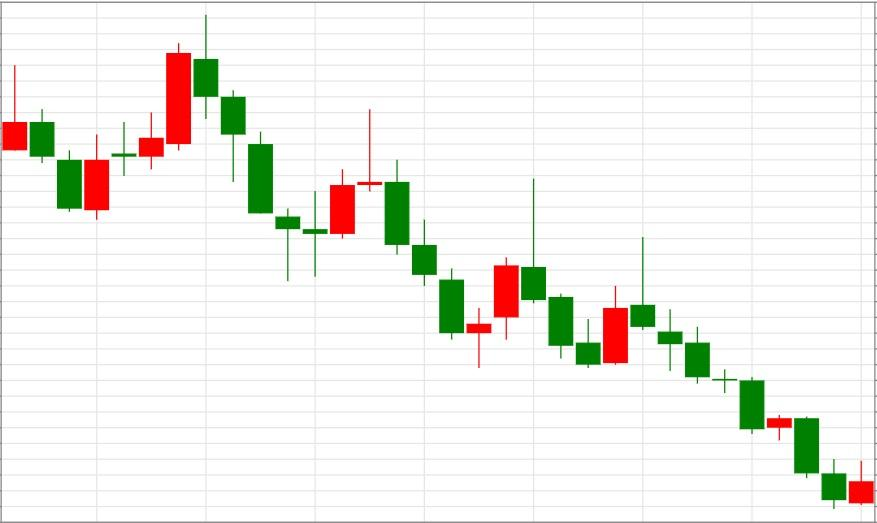evening_star_fall: (274, 108, 410, 282)
shooting_star_fall: (465, 177, 548, 367), (575, 236, 657, 368)
three_black_crows_fall: (56, 15, 274, 220)
